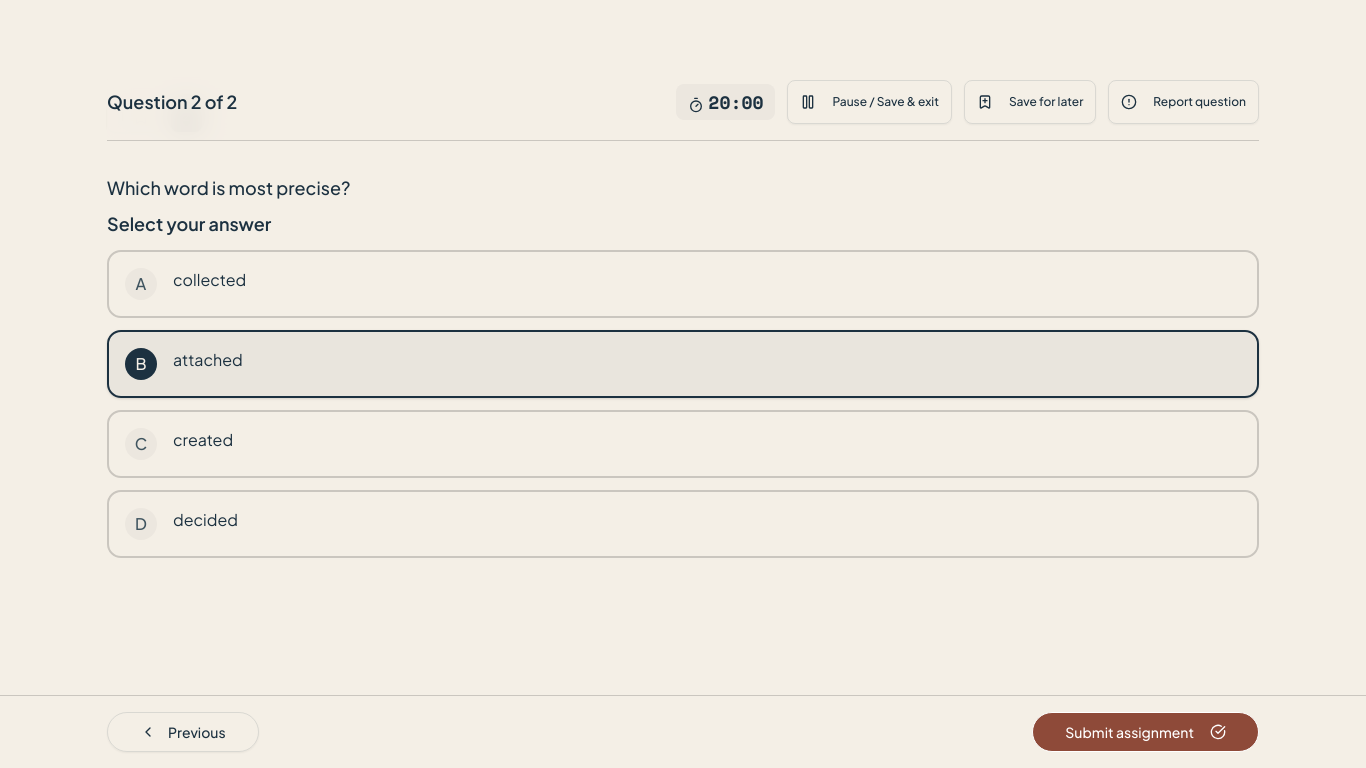
Test: student attempt UI › Resume restores the saved question and answers without a Flag control
The width and height of the screenshot is (1366, 768).
Expected: the text "Question 2 of 2" is shown, left=107, top=88, right=237, bottom=116
Expected: the text "Which word is most precise?" is shown, left=107, top=176, right=350, bottom=199
Click the button "Previous". click: (183, 732)
box: left=107, top=712, right=259, bottom=752
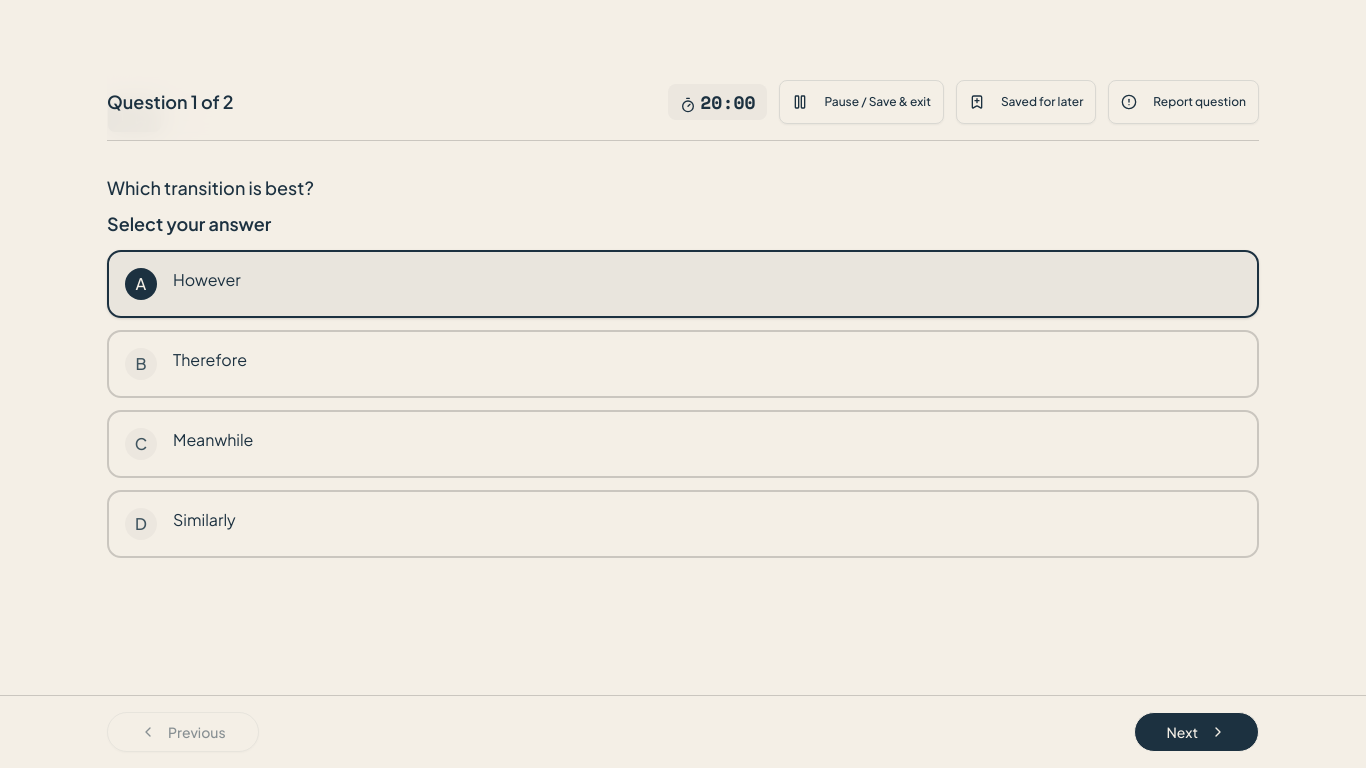
Expected: the text "Which transition is best?" is shown, left=107, top=176, right=314, bottom=199
Expected: the button with test id "save-for-later" reads "Saved for later", left=956, top=80, right=1096, bottom=124
